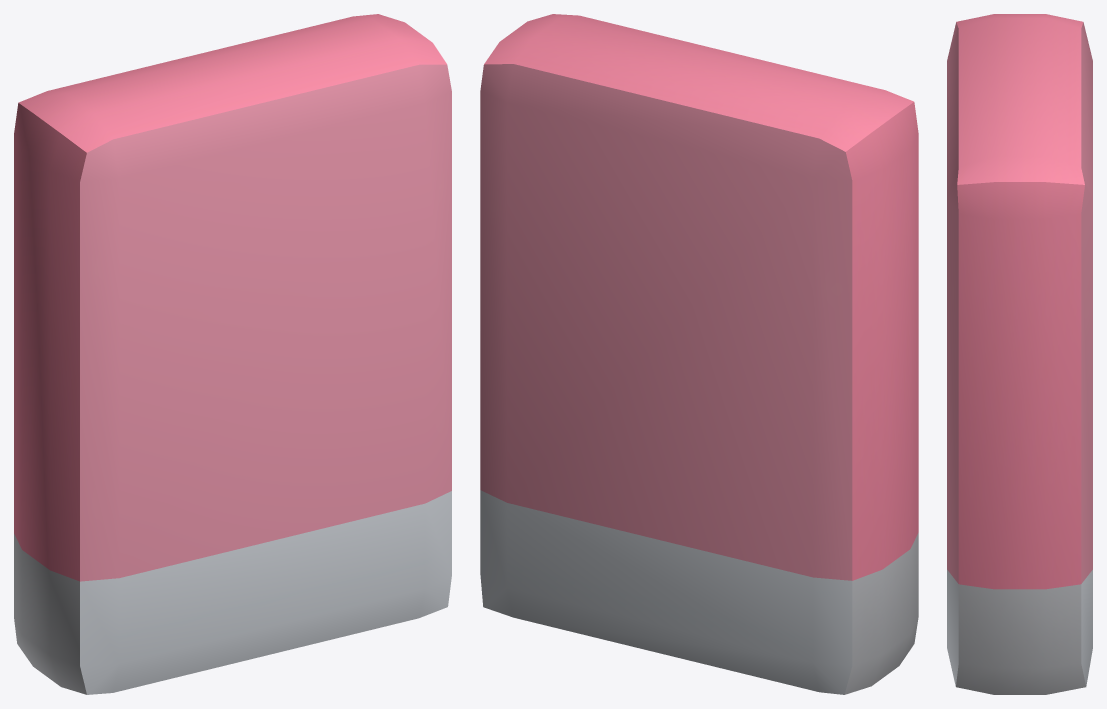
File: SM_Eraser01.fbx
3 renders of one model, left to right at view 1: azimuth 30°, elevation 25°; view 2: azimuth 150°, elevation 25°; view 3: azimuth 270°, elevation 25°, orthographic. The views are drawn at different scales.
Visible parts, largest first — view 1: SM_Eraser; view 2: SM_Eraser; view 3: SM_Eraser.
Part boxes in pixels (x1,y1,x2,y2): SM_Eraser: (14,14,451,694); SM_Eraser: (480,14,918,694); SM_Eraser: (947,14,1092,694).
Bounding box in the file's own units: 21.67 × 30.31 × 7.51.
Materials: 1 (1 with a texture image).
